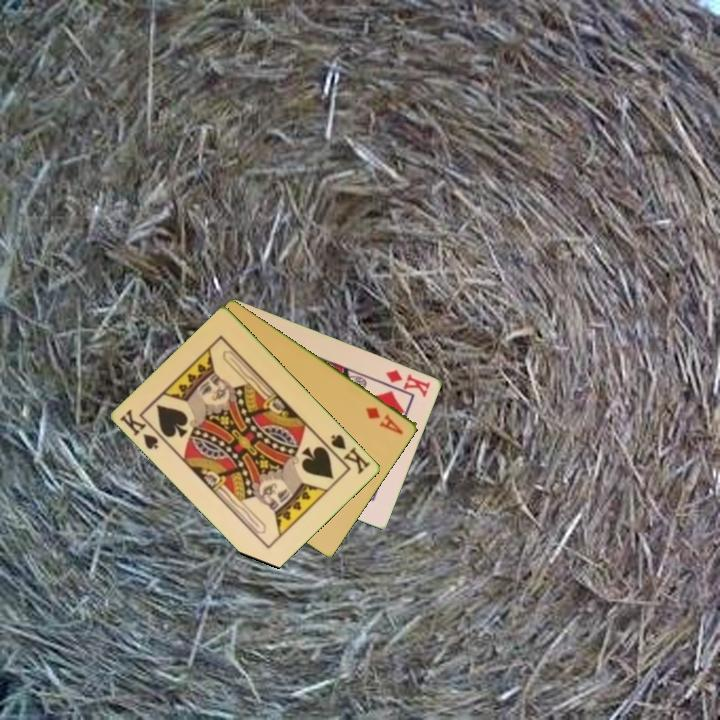Ad: (362, 404, 407, 438)
Kd: (377, 365, 434, 400)
Ks: (117, 405, 169, 452), (322, 431, 373, 477)
